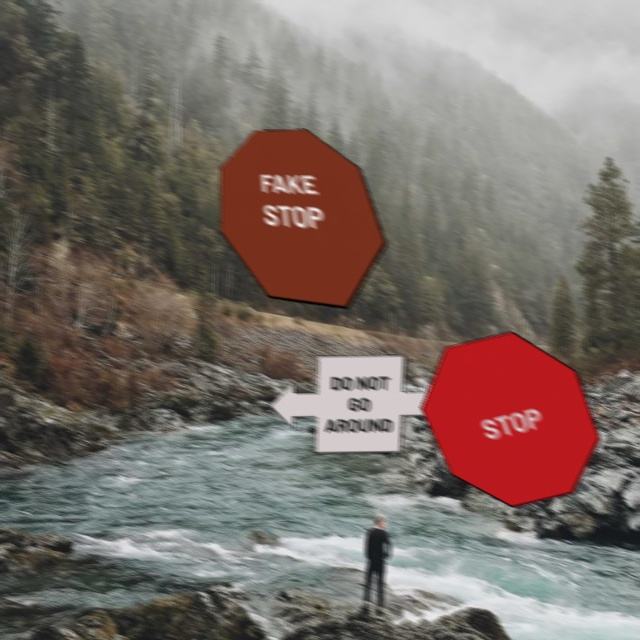DO_NOT_GO_AROUND: (269, 354, 449, 453)
FAKE_STOP: (219, 128, 386, 308)
STOP: (420, 330, 600, 507)
